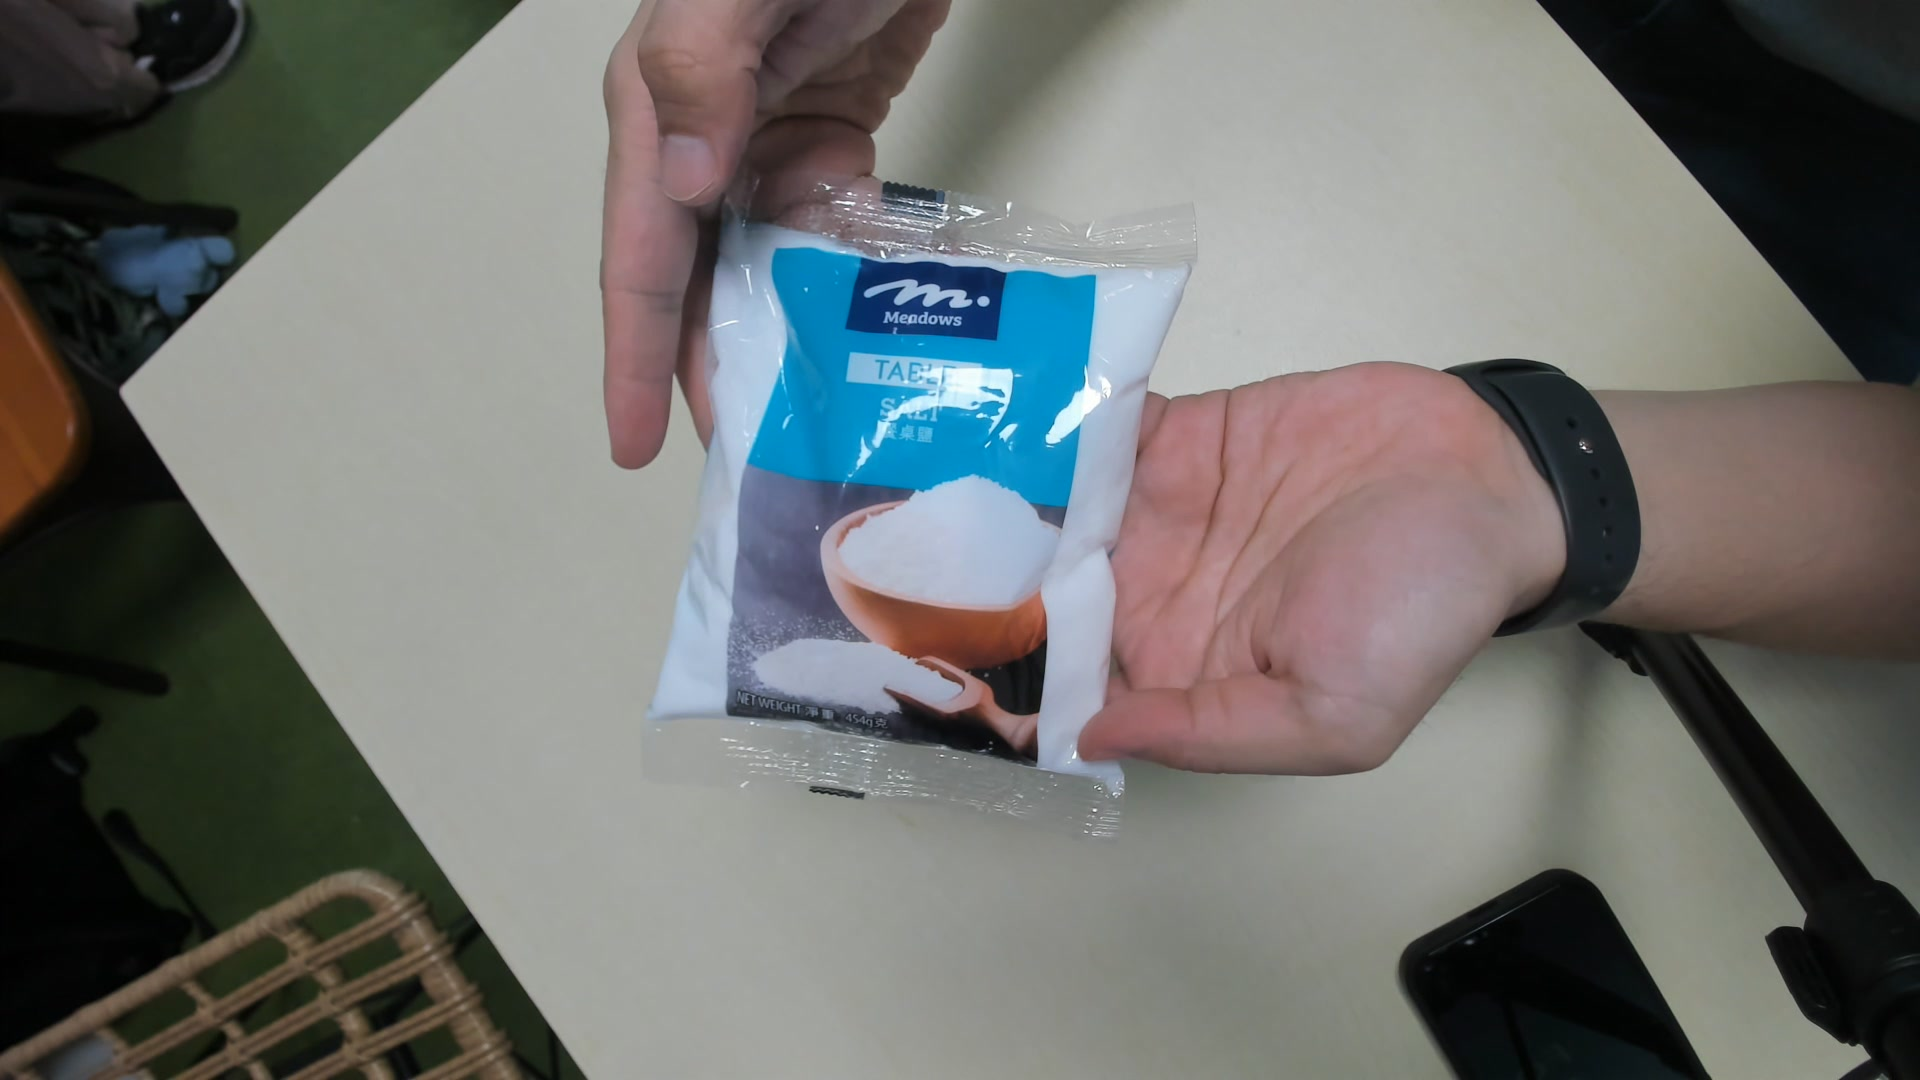Salt_400-499g_NonHalal_NonHealthy: (678, 195, 1178, 833)
